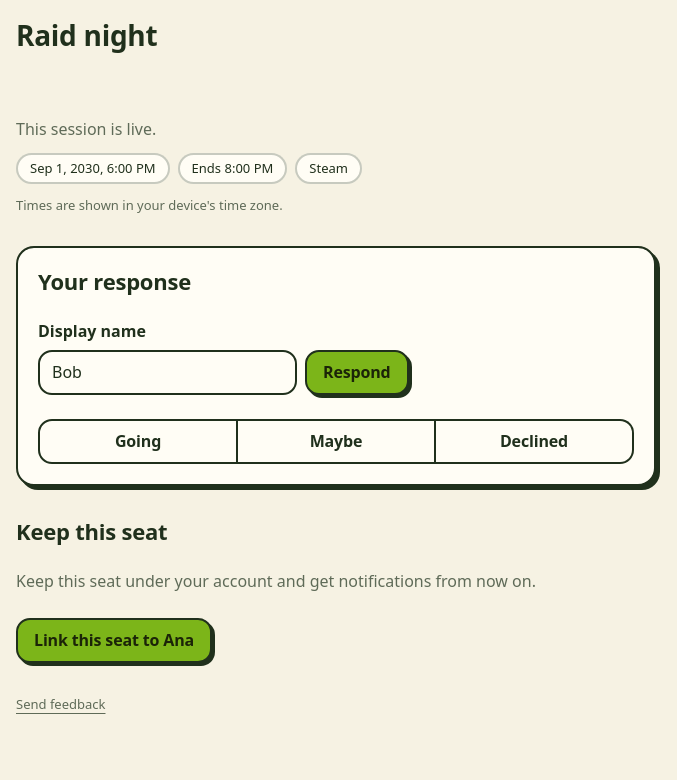
GuestSessionPage — guest to account upgrade (D-225) › says nothing more than "couldn't" when the upgrade is refused_D225
The width and height of the screenshot is (677, 780).
Click the button "Link this seat to Ana".
click(114, 640)  # box x1=16 y1=618 x2=212 y2=663
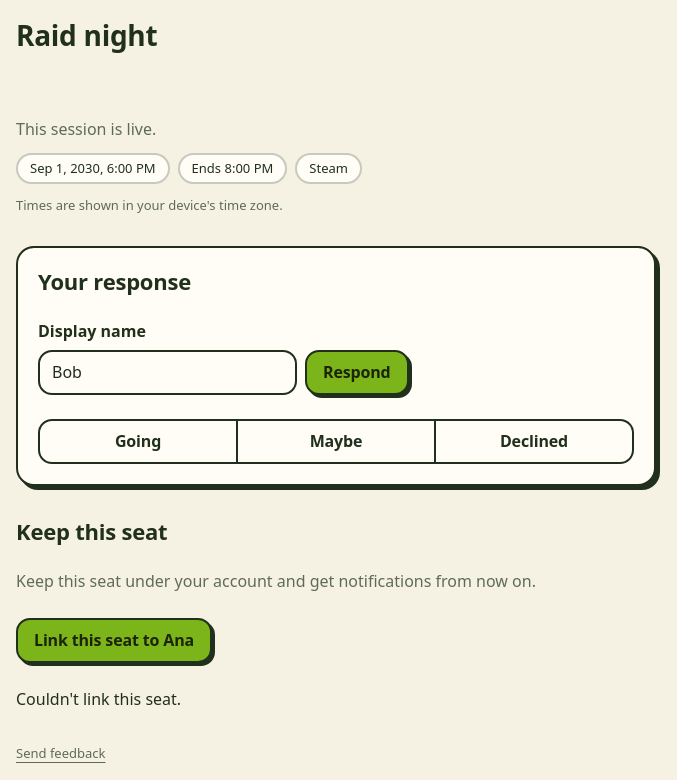
Result: the text "Couldn't link this seat." is shown at x1=16 y1=688 x2=181 y2=710
